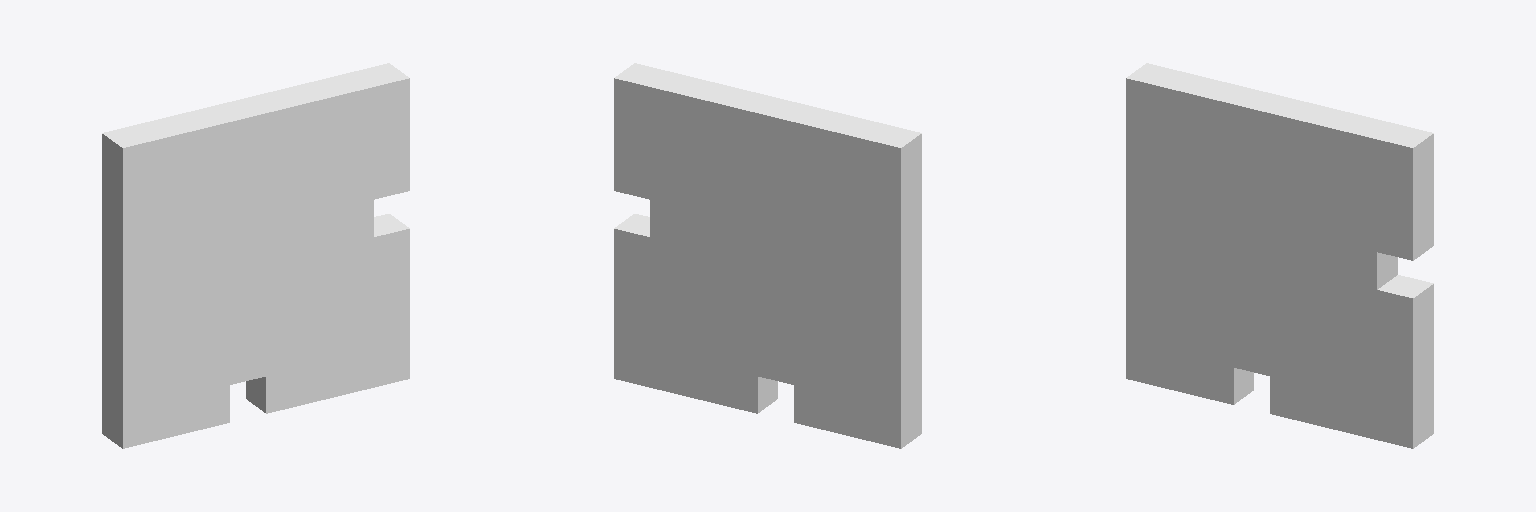
File: Cursor.obj
3 renders of one model, left to right at view 1: azimuth 30°, elevation 25°; view 2: azimuth 150°, elevation 25°; view 3: azimuth 330°, elevation 25°, orthographic.
Visible parts, largest first — view 1: object 1; view 2: object 1; view 3: object 1.
Part boxes in pixels (x1,y1,x2,y2): object 1: (102, 63, 409, 448); object 1: (614, 63, 921, 448); object 1: (1126, 63, 1433, 448).
Bounding box in the file's own units: 0.8 × 0.8 × 0.1.